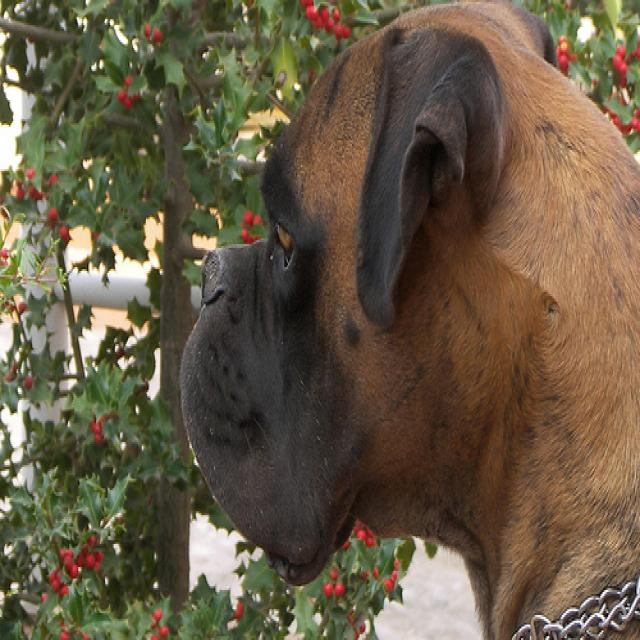dog-boxer: (172, 2, 637, 636)
